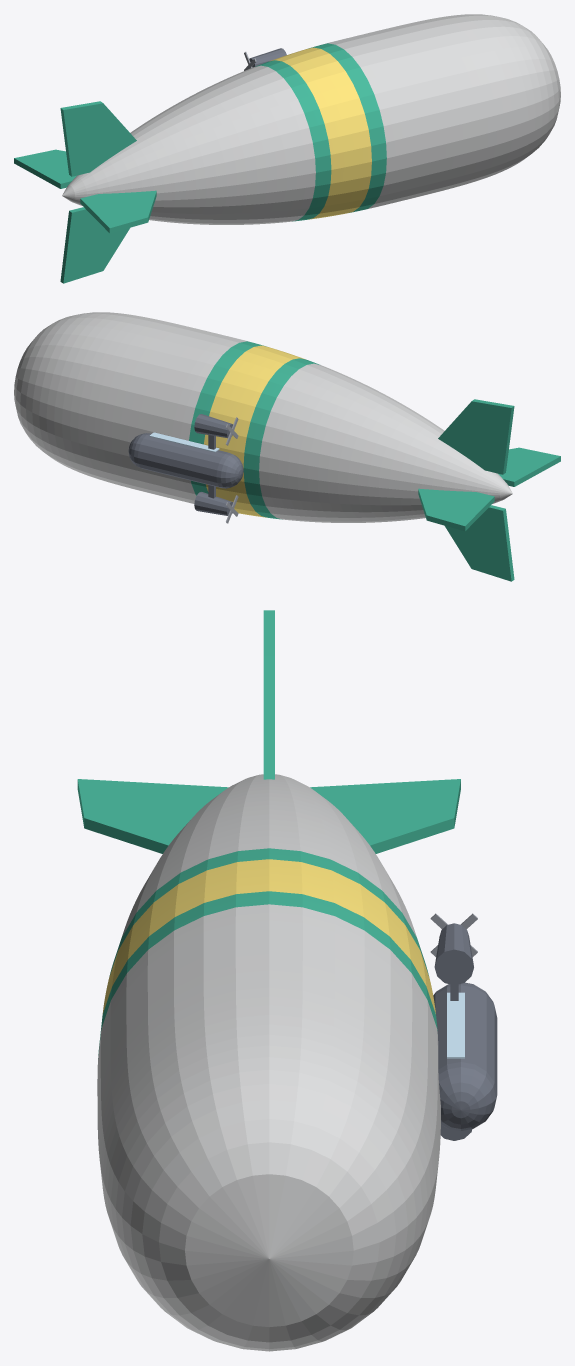
File: zeppelin.glb
3 views of the same model, one above another, from view 1: azimuth 30°, elevation 25°; view 2: azimuth 150°, elevation 25°; view 3: azimuth 270°, elevation 25° (orthographic). The views are drawn at different scales.
Visible parts, largest first — view 1: zeppelin; view 2: zeppelin; view 3: zeppelin.
Part boxes in pixels (x1,y1,x2,y2): zeppelin: (14,14,560,283); zeppelin: (14,312,560,581); zeppelin: (77,610,497,1351).
Bounding box in the file's own units: 34 × 11.6 × 12.7.
